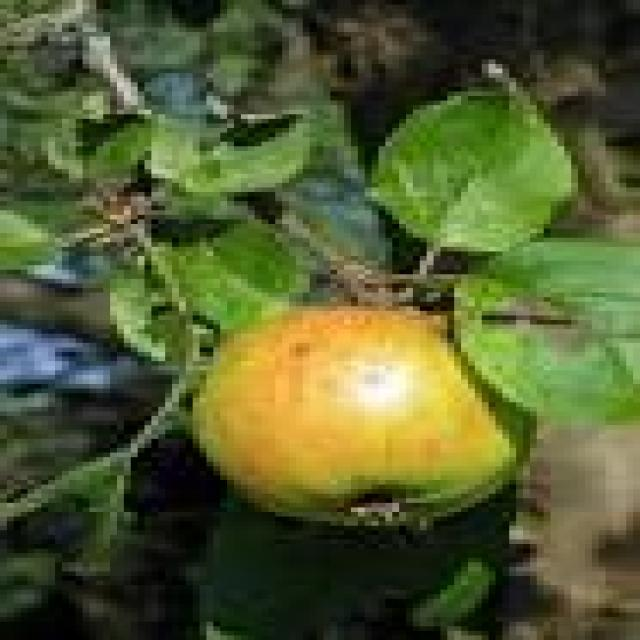apple: (193, 306, 509, 521)
